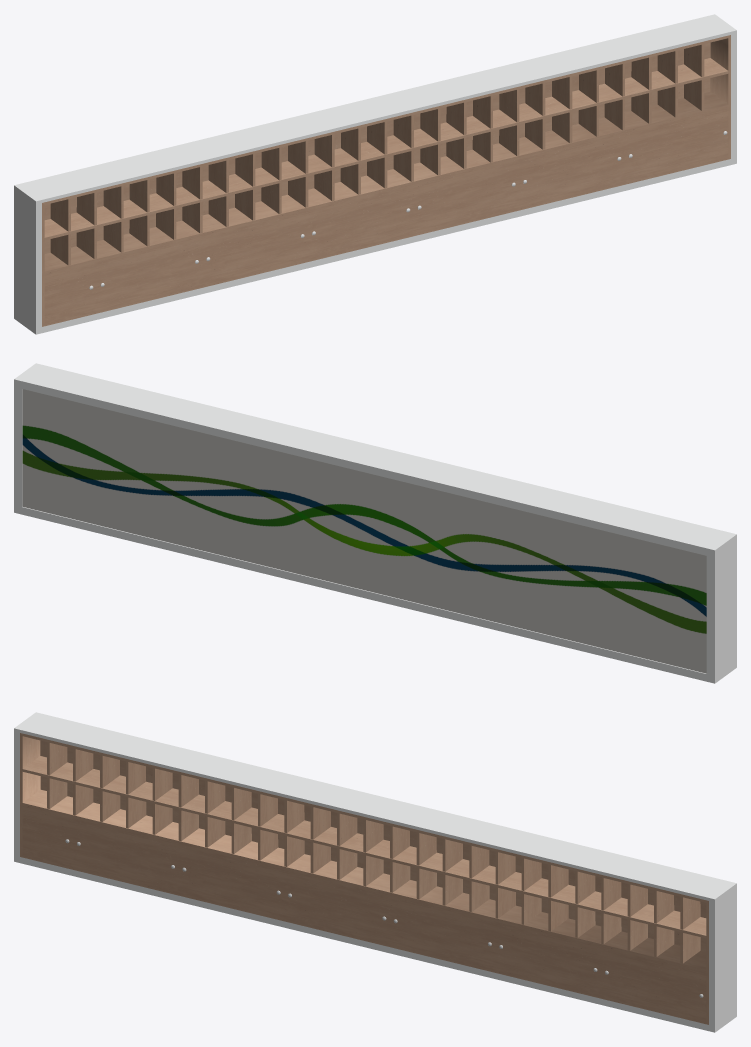
The model's file is ChuWuJia001.FBX.
The picture shows the model from 3 angles, top to bottom: view 1: azimuth 30°, elevation 25°; view 2: azimuth 150°, elevation 25°; view 3: azimuth 330°, elevation 25°; orthographic projection.
Parts seen in each view (by area): view 1: YF_Model_ChuWuJia001; view 2: YF_Model_ChuWuJia001; view 3: YF_Model_ChuWuJia001.
Part boxes in pixels (box(x1,y1,x2,y2)): YF_Model_ChuWuJia001: box(14, 14, 736, 334); YF_Model_ChuWuJia001: box(14, 363, 736, 683); YF_Model_ChuWuJia001: box(14, 712, 736, 1032).
Bounding box in the file's own units: 613 × 111 × 35.45.
Materials: 3 (3 with a texture image).
